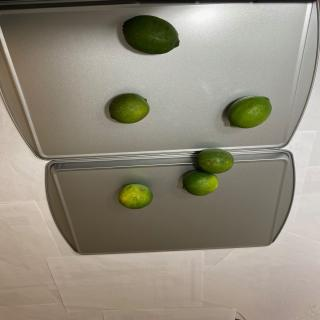Apple: (108, 93, 150, 124)
Lemon: (122, 15, 180, 54), (227, 95, 272, 129), (196, 148, 234, 174), (118, 183, 153, 210), (182, 170, 218, 196)
